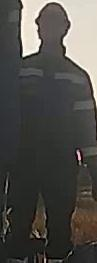gloves: (80, 159, 97, 201)
helmet: (34, 0, 71, 36)
vest: (18, 54, 81, 178)
